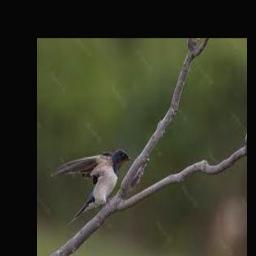Swallow: (51, 148, 132, 225)
